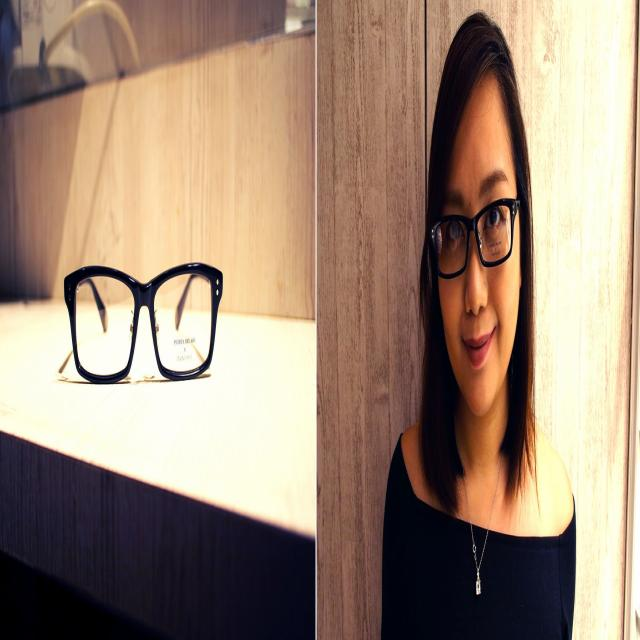Glasses: (429, 193, 522, 284)
